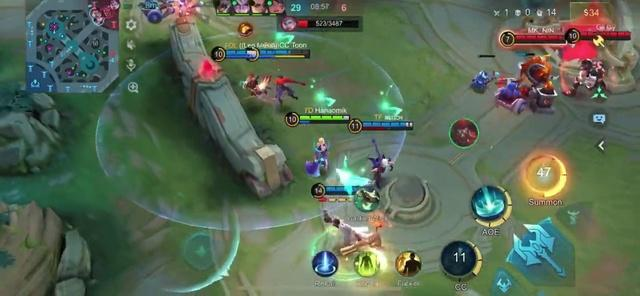Adc_Aliado: (89, 8, 98, 17)
Balmont: (563, 59, 604, 95)
Dyrrot: (368, 139, 393, 187)
Energia: (274, 56, 311, 59)
Exp_Aliado: (96, 12, 104, 20)
Granger: (324, 209, 383, 255)
HP_Aliado: (327, 186, 368, 193), (260, 50, 311, 55), (363, 122, 413, 127), (227, 51, 256, 56)
HP_Enemigo: (514, 35, 565, 42), (580, 32, 630, 37)
HP_Heroe_Principal: (298, 115, 351, 120)
Jungla_Aliado: (92, 18, 103, 26)
Jungla_Enemigo: (103, 6, 114, 20)
Lesly: (274, 76, 305, 102)
Mana: (226, 56, 274, 59), (299, 122, 351, 123)
Matilda: (243, 74, 270, 96)
Mid_Enemigo: (112, 0, 120, 10)
Minimapa: (27, 0, 120, 92)
Minotauro: (520, 56, 557, 110)
Pasiva_Granger: (317, 197, 361, 204)
Skill2: (470, 185, 512, 227)
Torre_destruida: (378, 174, 440, 224)
Vexana: (305, 137, 328, 176)
